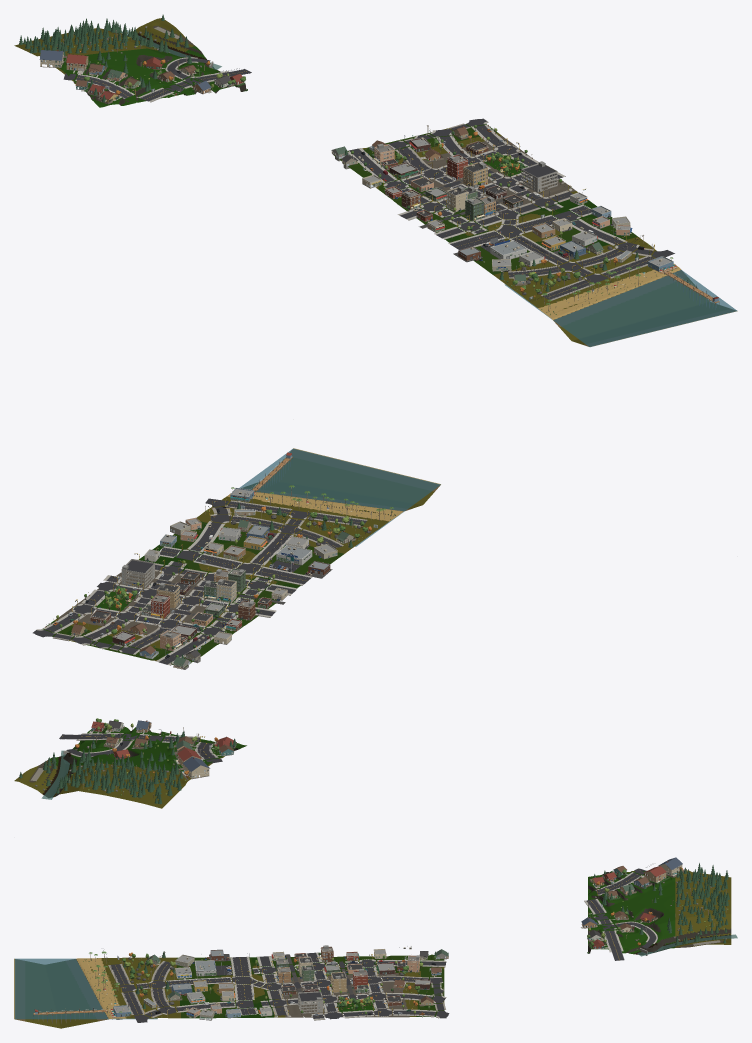
File: PortSolace_Exterior_part3of5.fbx
3 views of the same model, one above another, from view 1: azimuth 30°, elevation 25°; view 2: azimuth 150°, elevation 25°; view 3: azimuth 270°, elevation 25° (orthographic). The views are drawn at different scales.
Visible parts, largest first — view 1: Roads_C2_1.asphalt, Roads_C2_2.asphalt, Props_C1_4.leaf_pine, Terrain_0_4, Sea_0_4, Sea_0_5, Terrain_0_5, Terrain_1_4, Terrain_1_5, Terrain_9_3, Terrain_8_2, Sidewalks_C2_2.sidewalk (+12 smaller); view 2: Roads_C2_2.asphalt, Roads_C2_1.asphalt, Props_C1_4.leaf_pine, Terrain_0_4, Sea_0_4, Terrain_0_5, Sea_0_5, Terrain_1_4, Terrain_9_3, Sidewalks_C2_2.sidewalk, Terrain_9_2, Terrain_1_5 (+14 smaller); view 3: Roads_C2_1.asphalt, Roads_C2_2.asphalt, Props_C1_4.leaf_pine, Terrain_0_4, Terrain_9_3, Sea_0_4, Sea_0_5, Terrain_0_5, Terrain_8_3, Terrain_1_4, Terrain_8_2, Terrain_9_2 (+16 smaller).
Part boxes in pixels (x1,y1,x2,y2): Roads_C2_1.asphalt: [436, 192, 637, 277]; Roads_C2_2.asphalt: [349, 118, 562, 218]; Props_C1_4.leaf_pine: [19, 14, 192, 102]; Terrain_0_4: [547, 300, 663, 346]; Sea_0_4: [547, 298, 662, 347]; Sea_0_5: [621, 280, 737, 328]; Terrain_0_5: [622, 285, 737, 328]; Terrain_1_4: [504, 268, 620, 315]; Terrain_1_5: [579, 247, 694, 298]; Terrain_9_3: [94, 18, 204, 62]; Terrain_8_2: [57, 58, 173, 107]; Sidewalks_C2_2.sidewalk: [347, 121, 565, 220]; Roads_C2_2.asphalt: [33, 575, 275, 664]; Roads_C2_1.asphalt: [155, 514, 341, 598]; Props_C1_4.leaf_pine: [19, 731, 236, 804]; Terrain_0_4: [327, 466, 440, 514]; Sea_0_4: [326, 466, 440, 515]; Terrain_0_5: [252, 448, 367, 498]; Sea_0_5: [251, 448, 366, 497]; Terrain_1_4: [286, 499, 398, 545]; Terrain_9_3: [14, 755, 130, 797]; Sidewalks_C2_2.sidewalk: [36, 575, 276, 665]; Terrain_9_2: [88, 759, 193, 808]; Terrain_1_5: [208, 485, 322, 526]; Roads_C2_1.asphalt: [149, 956, 301, 1015]; Roads_C2_2.asphalt: [295, 952, 449, 1019]; Props_C1_4.leaf_pine: [593, 863, 729, 945]; Terrain_0_4: [14, 958, 85, 996]; Terrain_9_3: [659, 907, 731, 950]; Sea_0_4: [14, 958, 85, 988]; Sea_0_5: [14, 989, 85, 1019]; Terrain_0_5: [14, 989, 85, 1028]; Terrain_8_3: [588, 907, 659, 954]; Terrain_1_4: [86, 957, 157, 989]; Terrain_8_2: [588, 870, 659, 912]; Terrain_9_2: [659, 870, 731, 909].
Size of the model in its own units: 157486 by 19307 by 258430.
